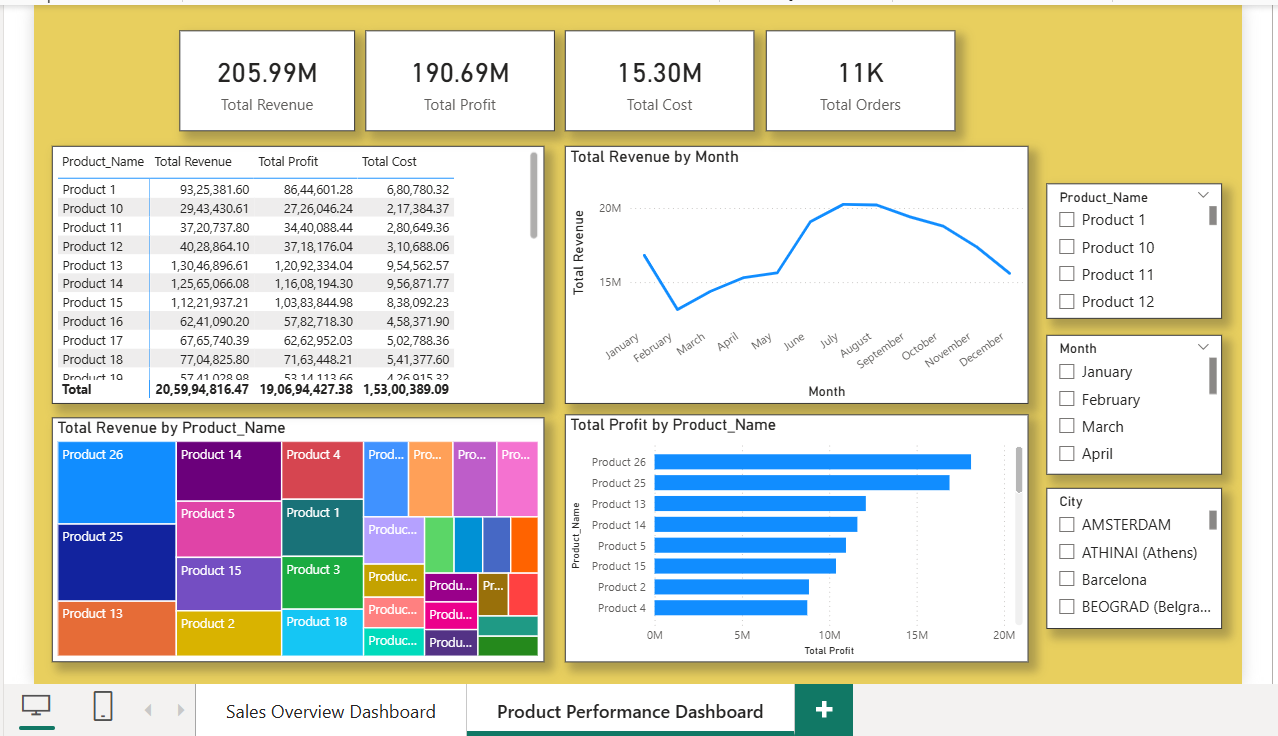

Layout of this report page (visuals, bound fields, positions):
{"tool":"powerbi","page":{"name":"Product Performance Dashboard","canvas":[1280,720],"ordinal":1},"visuals":[{"type":"treemap","fields":{"Group":["Budgets2017.Product_Name"],"Values":["DAX Measure.Total Revenue"]},"box":[19.1,437.4,521.7,259.3],"z":0},{"type":"pivotTable","fields":{"Rows":["Budgets2017.Product_Name"],"Values":["DAX Measure.Total Revenue","DAX Measure.Total Profit","DAX Measure.Total Cost"]},"box":[19.1,149.5,521.7,273.6],"z":1000},{"type":"lineChart","fields":{"Category":["SalesOrder.OrderDate.Variation.Date Hierarchy.Month"],"Y":["DAX Measure.Total Revenue"]},"box":[563.1,149.5,491.5,273.6],"z":2000},{"type":"card","fields":{"Values":["DAX Measure.Total Revenue"]},"box":[154.3,27,186.1,106.6],"z":3000},{"type":"card","fields":{"Values":["DAX Measure.Total Profit"]},"box":[351.5,27,200.4,106.6],"z":4000},{"type":"card","fields":{"Values":["DAX Measure.Total Cost"]},"box":[563.1,27,200.4,106.6],"z":5000},{"type":"card","fields":{"Values":["DAX Measure.Total Orders"]},"box":[776.2,27,200.4,106.6],"z":6000},{"type":"slicer","fields":{"Values":["Budgets2017.Product_Name"]},"box":[1073.7,189.3,186.1,143.2],"z":7000},{"type":"clusteredBarChart","fields":{"Category":["Budgets2017.Product_Name"],"Y":["DAX Measure.Total Profit"]},"box":[563.1,434.2,491.5,262.5],"z":8000},{"type":"slicer","fields":{"Values":["SalesOrder.OrderDate.Variation.Date Hierarchy.Month"]},"box":[1073.7,349.9,186.1,147.9],"z":9000},{"type":"slicer","fields":{"Values":["Regions.City"]},"box":[1073.7,512.2,186.1,149.5],"z":10000}]}

Visuals, with their boxes in screenshot pixels (x1, y1, x2, y2):
treemap - Budgets2017.Product_Name x DAX Measure.Total Revenue: [left=45, top=412, right=540, bottom=658]
pivotTable - Budgets2017.Product_Name x DAX Measure.Total Revenue: [left=45, top=139, right=540, bottom=399]
lineChart - SalesOrder.OrderDate.Variation.Date Hierarchy.Month x DAX Measure.Total Revenue: [left=561, top=139, right=1028, bottom=399]
card - DAX Measure.Total Revenue: [left=173, top=22, right=350, bottom=124]
card - DAX Measure.Total Profit: [left=360, top=22, right=551, bottom=124]
card - DAX Measure.Total Cost: [left=561, top=22, right=752, bottom=124]
card - DAX Measure.Total Orders: [left=764, top=22, right=954, bottom=124]
slicer - Budgets2017.Product_Name: [left=1046, top=176, right=1223, bottom=312]
clusteredBarChart - Budgets2017.Product_Name x DAX Measure.Total Profit: [left=561, top=409, right=1028, bottom=658]
slicer - SalesOrder.OrderDate.Variation.Date Hierarchy.Month: [left=1046, top=329, right=1223, bottom=469]
slicer - Regions.City: [left=1046, top=483, right=1223, bottom=625]
